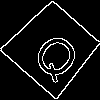Q: (27, 23, 90, 86)
